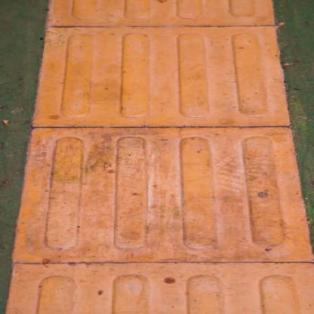Podoctatil: (12, 0, 309, 312)
